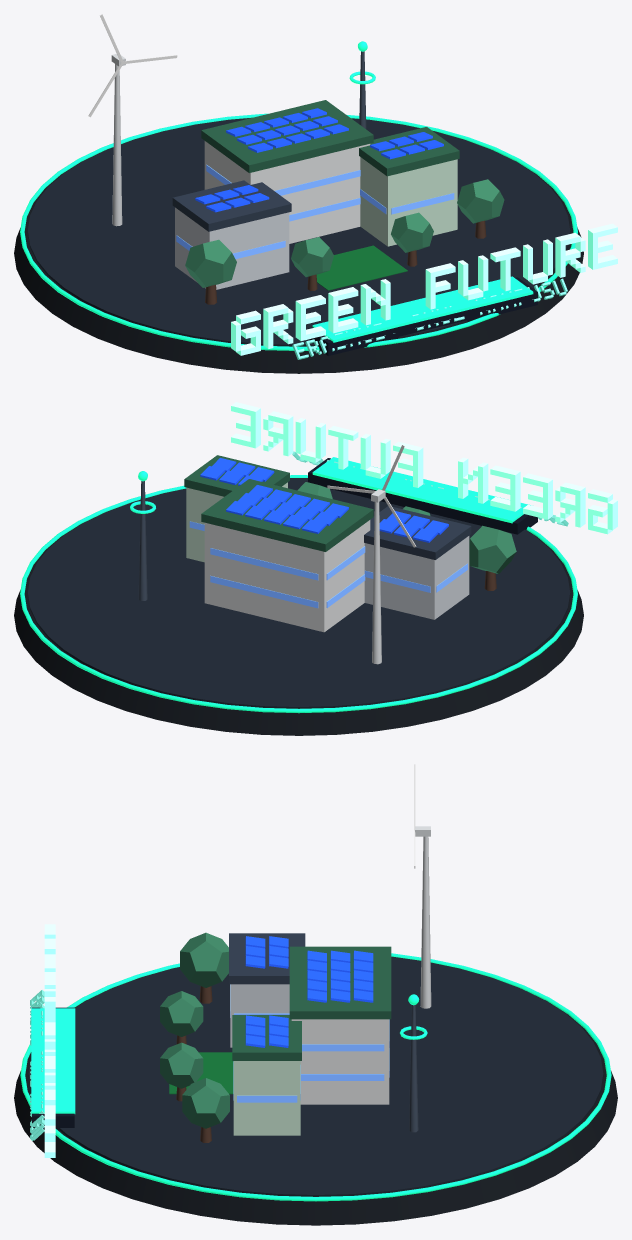
Rendered from school.glb.
3 views of the same model, one above another, from view 1: azimuth 30°, elevation 25°; view 2: azimuth 150°, elevation 25°; view 3: azimuth 270°, elevation 25° (orthographic). The views are drawn at different scales.
Bounding box in the file's own units: 9.89 × 4.62 × 9.89.
